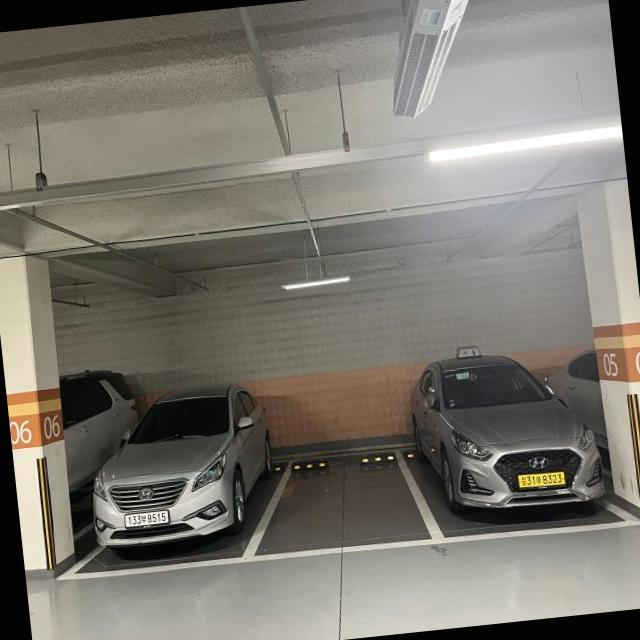car: (397, 320, 637, 552), (76, 376, 266, 574)
free: (251, 439, 430, 566)
